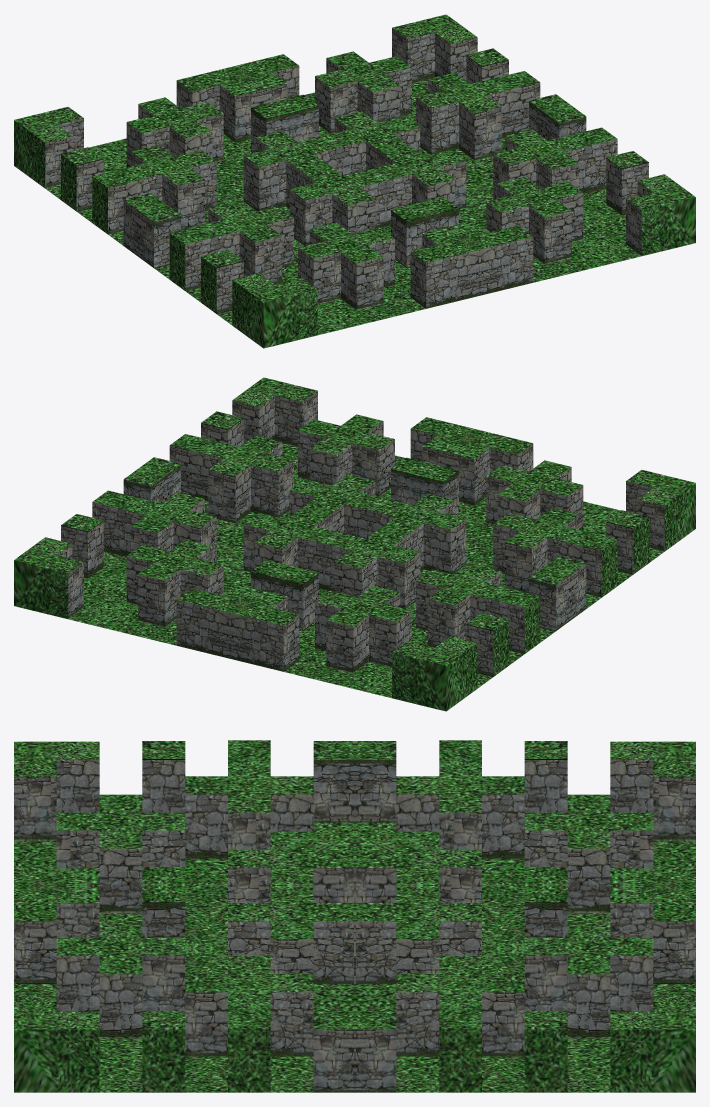
Rendered from mazewall_v2.fbx.
3 renders of one model, top to bottom at view 1: azimuth 30°, elevation 25°; view 2: azimuth 150°, elevation 25°; view 3: azimuth 270°, elevation 25°, orthographic. The views are drawn at different scales.
Visible parts, largest first — view 1: Plane; view 2: Plane; view 3: Plane.
Boxes of the visible parts, x1,y1,x2,y2 form: Plane: (14, 14, 695, 348); Plane: (14, 377, 695, 711); Plane: (14, 740, 695, 1092).
Bounding box in the file's own units: 1658 × 172 × 1658.
Materials: 1 (1 with a texture image).
